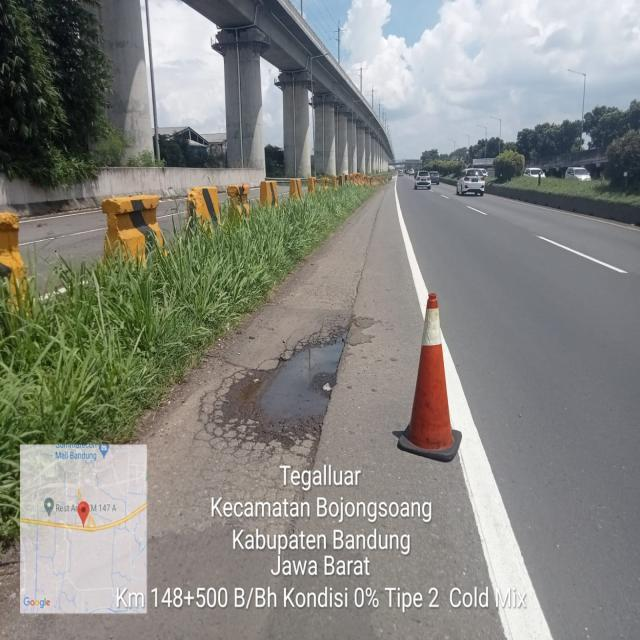Buraco: (213, 327, 352, 453)
